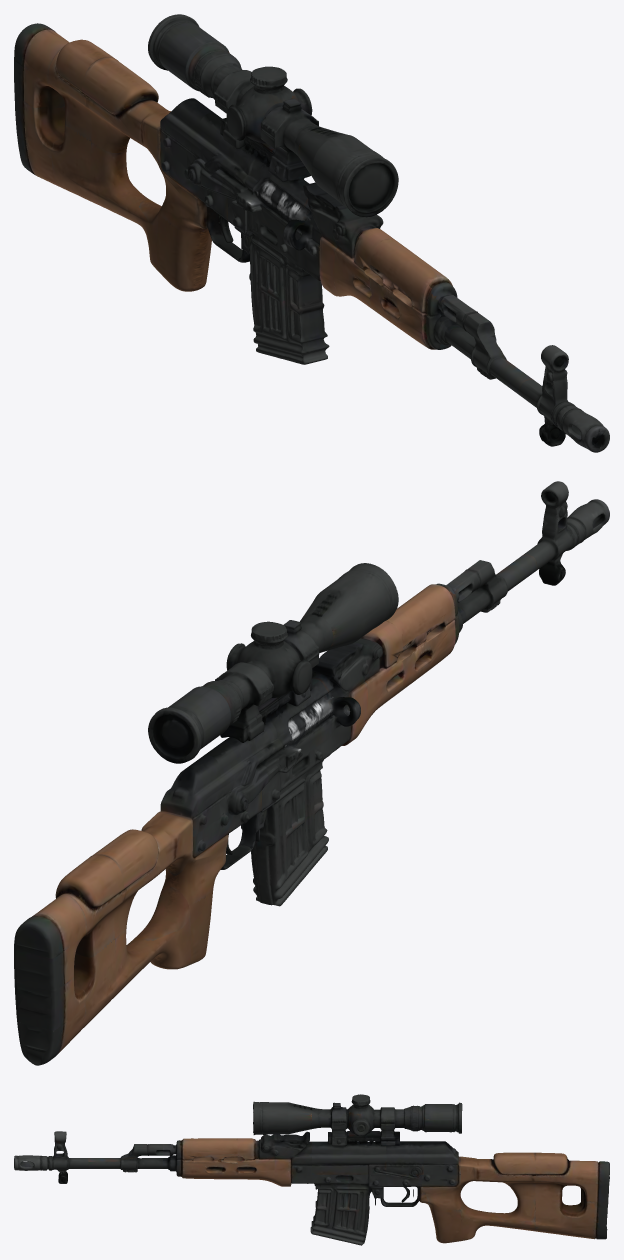
File: Hi3D_Realistic SVD Dragunov Sniper Rifle 3D Model_allparts_20260824_113726-optimized (2).glb
The picture shows the model from 3 angles, top to bottom: view 1: azimuth 30°, elevation 25°; view 2: azimuth 150°, elevation 25°; view 3: azimuth 270°, elevation 25°; orthographic projection. The views are drawn at different scales.
Visible parts, largest first — view 1: geometry_0; view 2: geometry_0; view 3: geometry_0.
Part boxes in pixels (x1,y1,x2,y2): geometry_0: (14,14,609,452); geometry_0: (14,481,609,1065); geometry_0: (14,1094,609,1245).
Size of the model in its own units: 0.0744 by 0.2673 by 1.
1 material, 1 textured.
